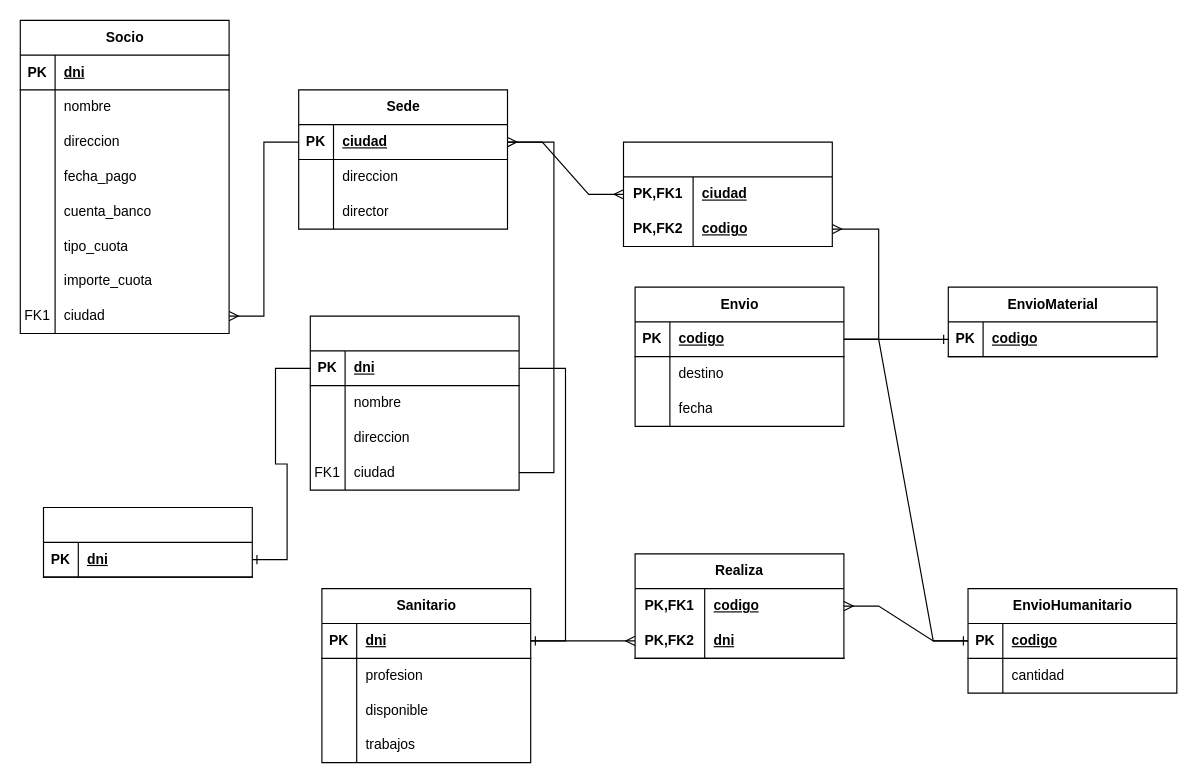
The diagram is 1197 pixels wide and 783 high, and some of its shapes have lost their labels. The box of each missing label's shape, as (x1, y1, x2, y2) in pixels:
Administrativo: (42, 506, 252, 577)
Organiza: (622, 141, 832, 246)
Voluntario: (309, 315, 519, 490)
